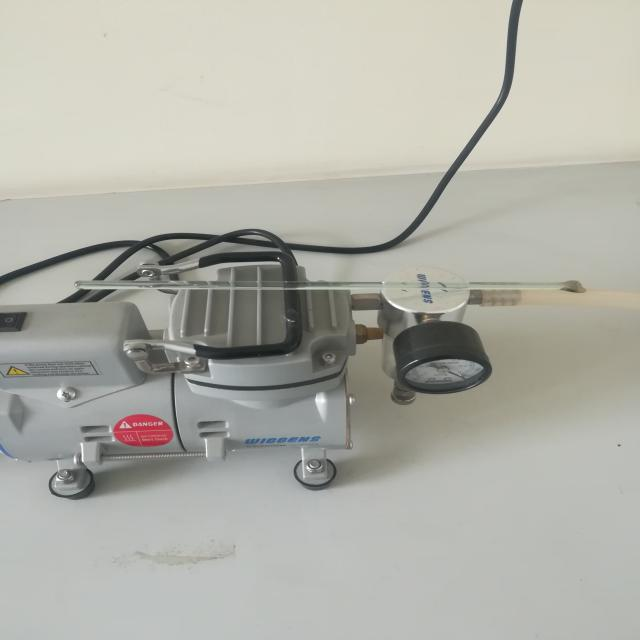Glass_Rod: (72, 262, 612, 310)
